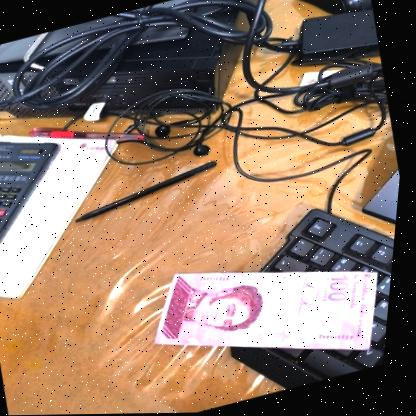one_hundred-front-vef: (141, 223, 400, 402)
